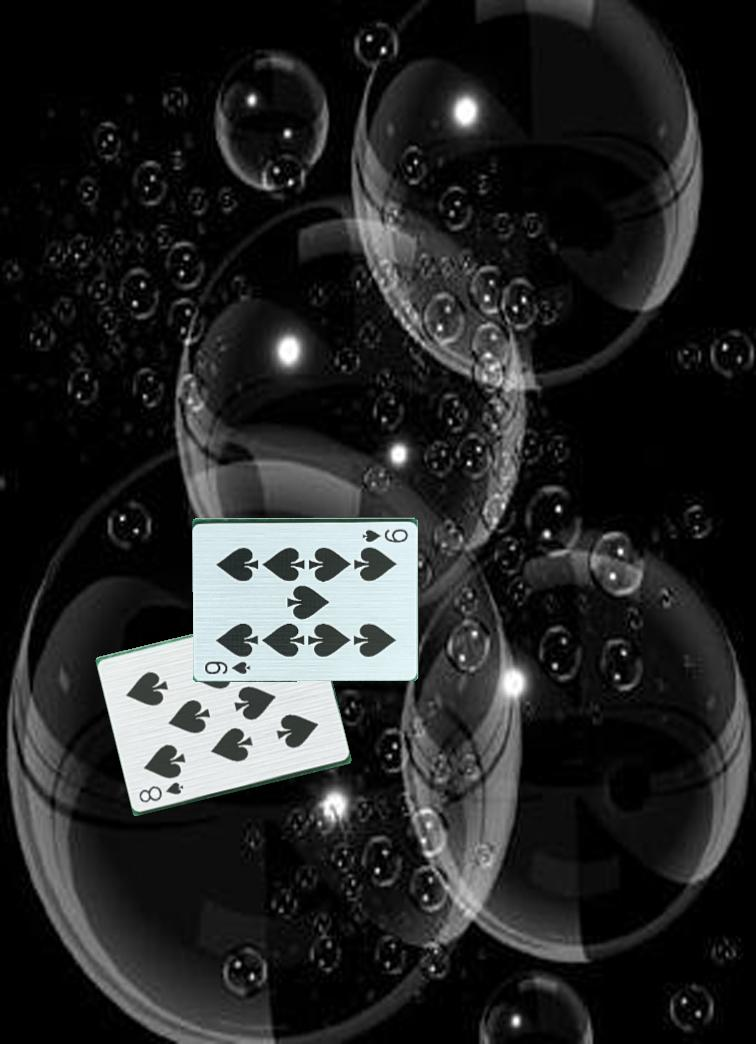8s: (135, 778, 189, 805)
9s: (201, 657, 253, 677), (359, 525, 411, 543)
